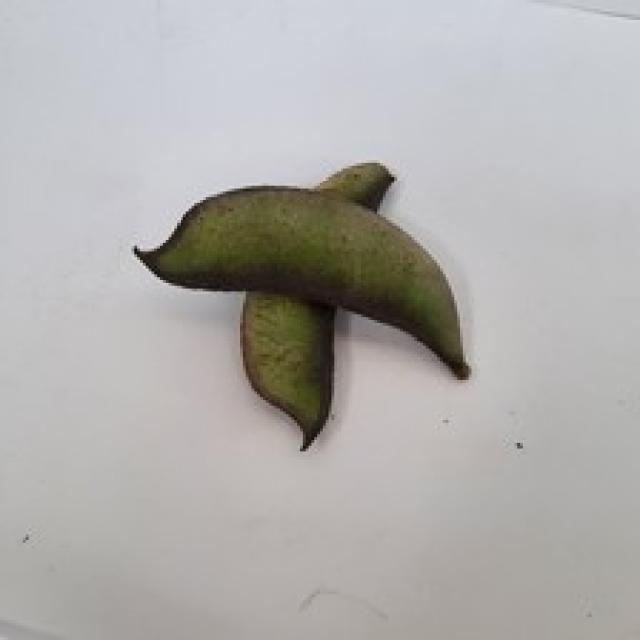Bean: (132, 180, 468, 380), (237, 286, 334, 451)
